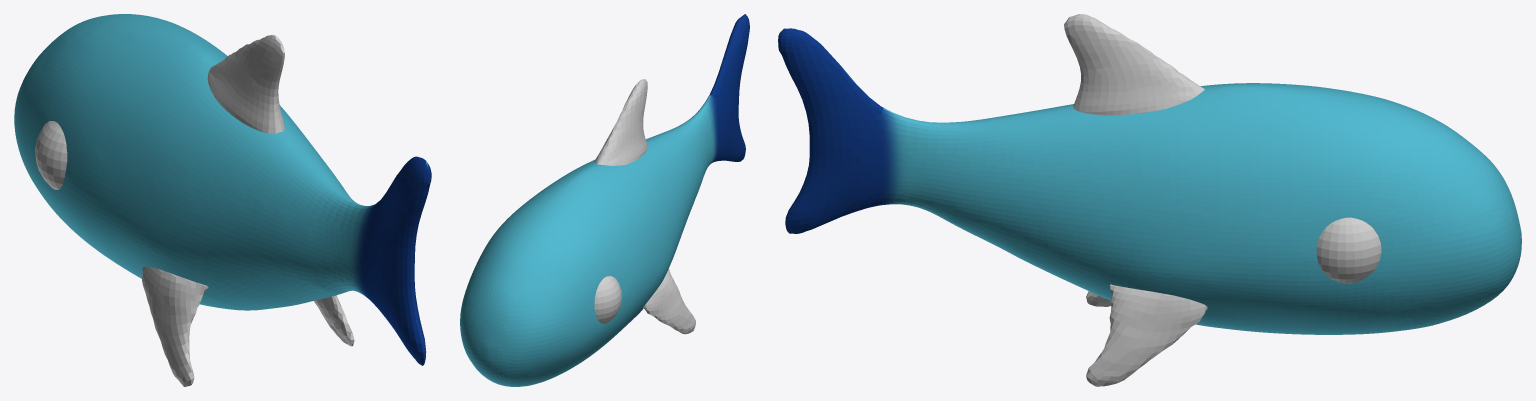
Rendered from petfish_v20_mesh.fbx.
The picture shows the model from 3 angles, left to right: view 1: azimuth 30°, elevation 25°; view 2: azimuth 150°, elevation 25°; view 3: azimuth 270°, elevation 25°; orthographic projection. The views are drawn at different scales.
Visible parts, largest first — view 1: body, top fin, fin, eyes; view 2: body, top fin, fin, eyes; view 3: body, top fin, fin, eyes.
Boxes of the visible parts, x1,y1,x2,y2 form: body: [14, 14, 431, 365]; top fin: [207, 35, 284, 133]; fin: [142, 266, 354, 386]; eyes: [35, 121, 67, 189]; body: [460, 14, 749, 386]; top fin: [594, 79, 647, 165]; fin: [643, 269, 695, 334]; eyes: [594, 276, 621, 323]; body: [778, 28, 1521, 334]; top fin: [1064, 14, 1204, 115]; fin: [1086, 284, 1207, 386]; eyes: [1316, 217, 1381, 283].
Size of the model in its own units: 150 by 240 by 487.
